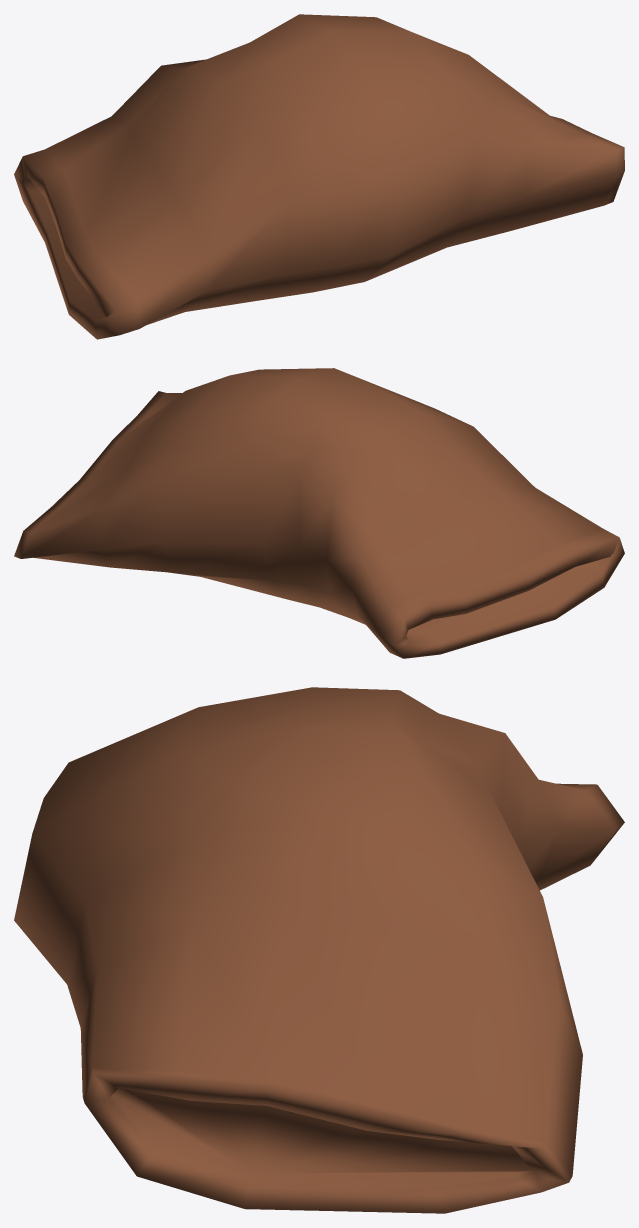
Rendered from sack2fbx.fbx.
3 renders of one model, top to bottom at view 1: azimuth 30°, elevation 25°; view 2: azimuth 150°, elevation 25°; view 3: azimuth 270°, elevation 25°, orthographic. The views are drawn at different scales.
Parts seen in each view (by area): view 1: Sack.001; view 2: Sack.001; view 3: Sack.001.
Boxes of the visible parts, x1,y1,x2,y2 form: Sack.001: [14, 14, 624, 339]; Sack.001: [14, 368, 624, 658]; Sack.001: [14, 687, 624, 1213].
Bounding box in the file's own units: 67.25 × 25.91 × 44.84.
